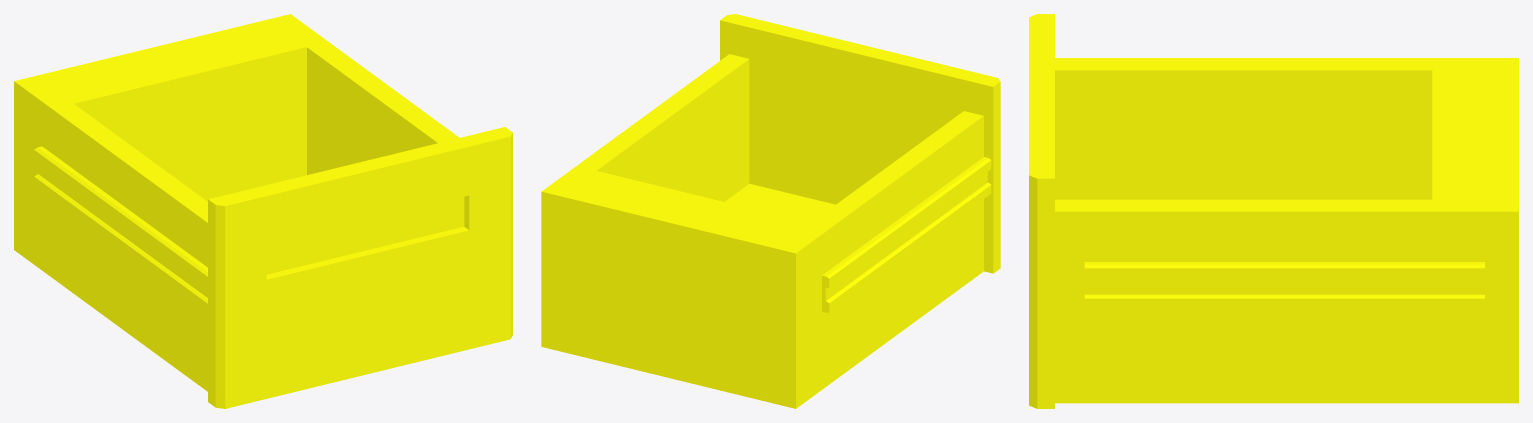
File: SM_DrawerDoor01.glb
3 views of the same model, side by side, from view 1: azimuth 30°, elevation 25°; view 2: azimuth 150°, elevation 25°; view 3: azimuth 270°, elevation 25° (orthographic). The views are drawn at different scales.
Parts seen in each view (by area): view 1: SM_DrawerDoor01; view 2: SM_DrawerDoor01; view 3: SM_DrawerDoor01.
Boxes of the visible parts, box(x1,y1,x2,y2) form: SM_DrawerDoor01: box(14, 14, 512, 408); SM_DrawerDoor01: box(541, 14, 1000, 408); SM_DrawerDoor01: box(1029, 14, 1518, 408).
Size of what is drawn, in the model's own units: 0.5075 by 0.3311 by 0.638.
Materials: 1 (1 with a texture image).
